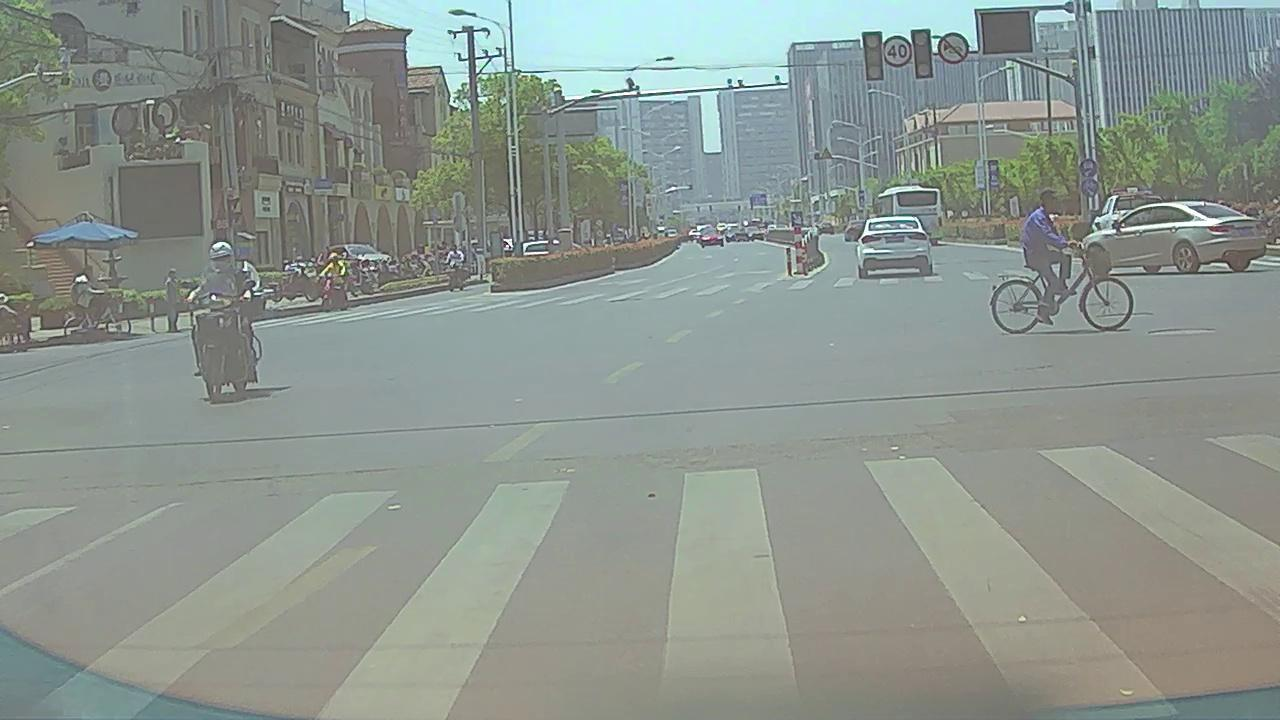traffic_light: (864, 30, 882, 78), (913, 30, 931, 78)
